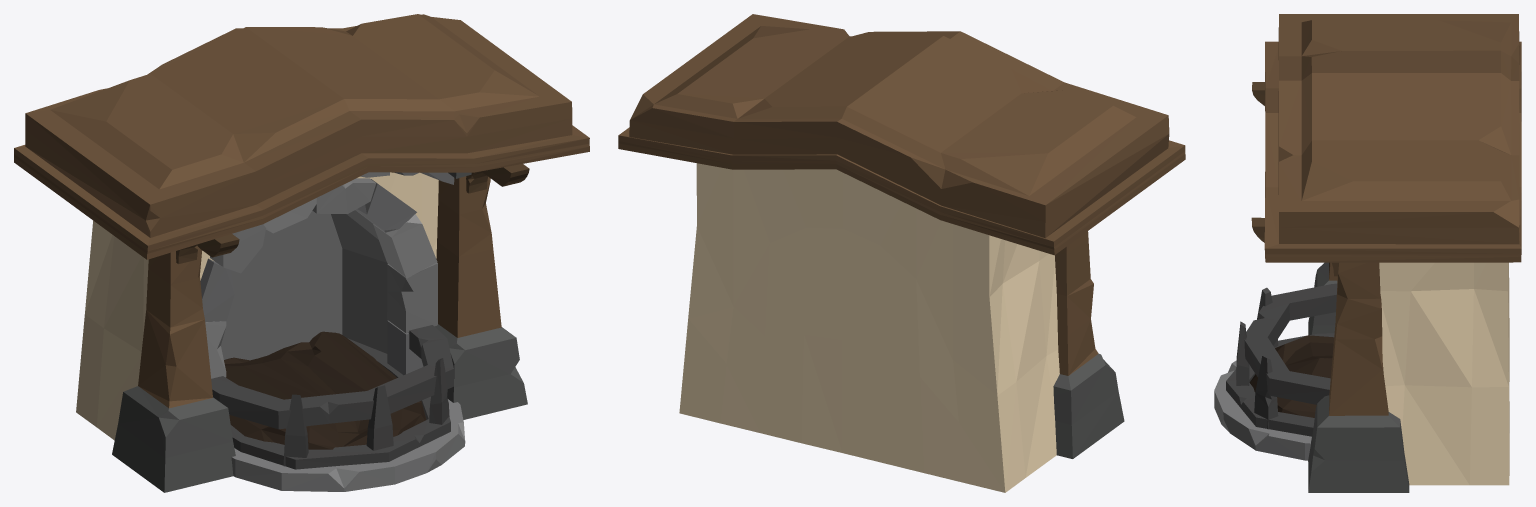
File: SFHW_Chemney.fbx
The picture shows the model from 3 angles, left to right: view 1: azimuth 30°, elevation 25°; view 2: azimuth 150°, elevation 25°; view 3: azimuth 270°, elevation 25°; orthographic projection. The views are drawn at different scales.
Parts seen in each view (by area): view 1: SFHW_Chemney; view 2: SFHW_Chemney; view 3: SFHW_Chemney.
Part boxes in pixels (x1=…): SFHW_Chemney: x1=14, y1=14, x2=589, y2=492; SFHW_Chemney: x1=618, y1=14, x2=1185, y2=492; SFHW_Chemney: x1=1214, y1=14, x2=1521, y2=492.
Size of the model in its own units: 283 by 213 by 177.
